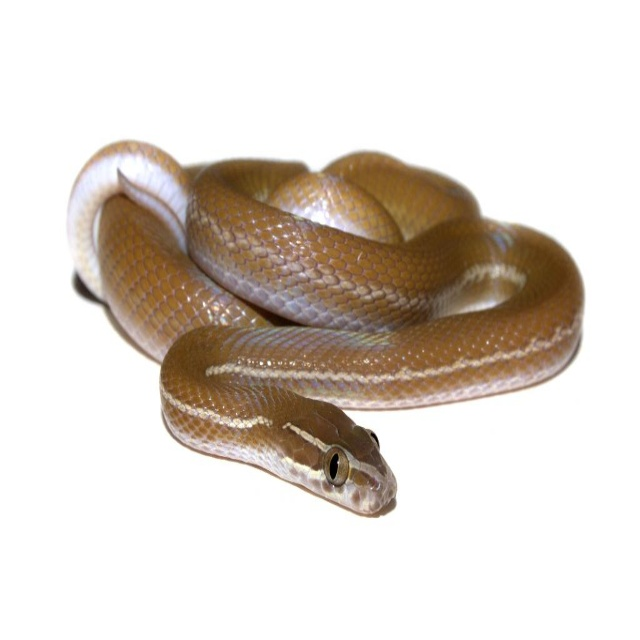Snake: (64, 138, 586, 518)
